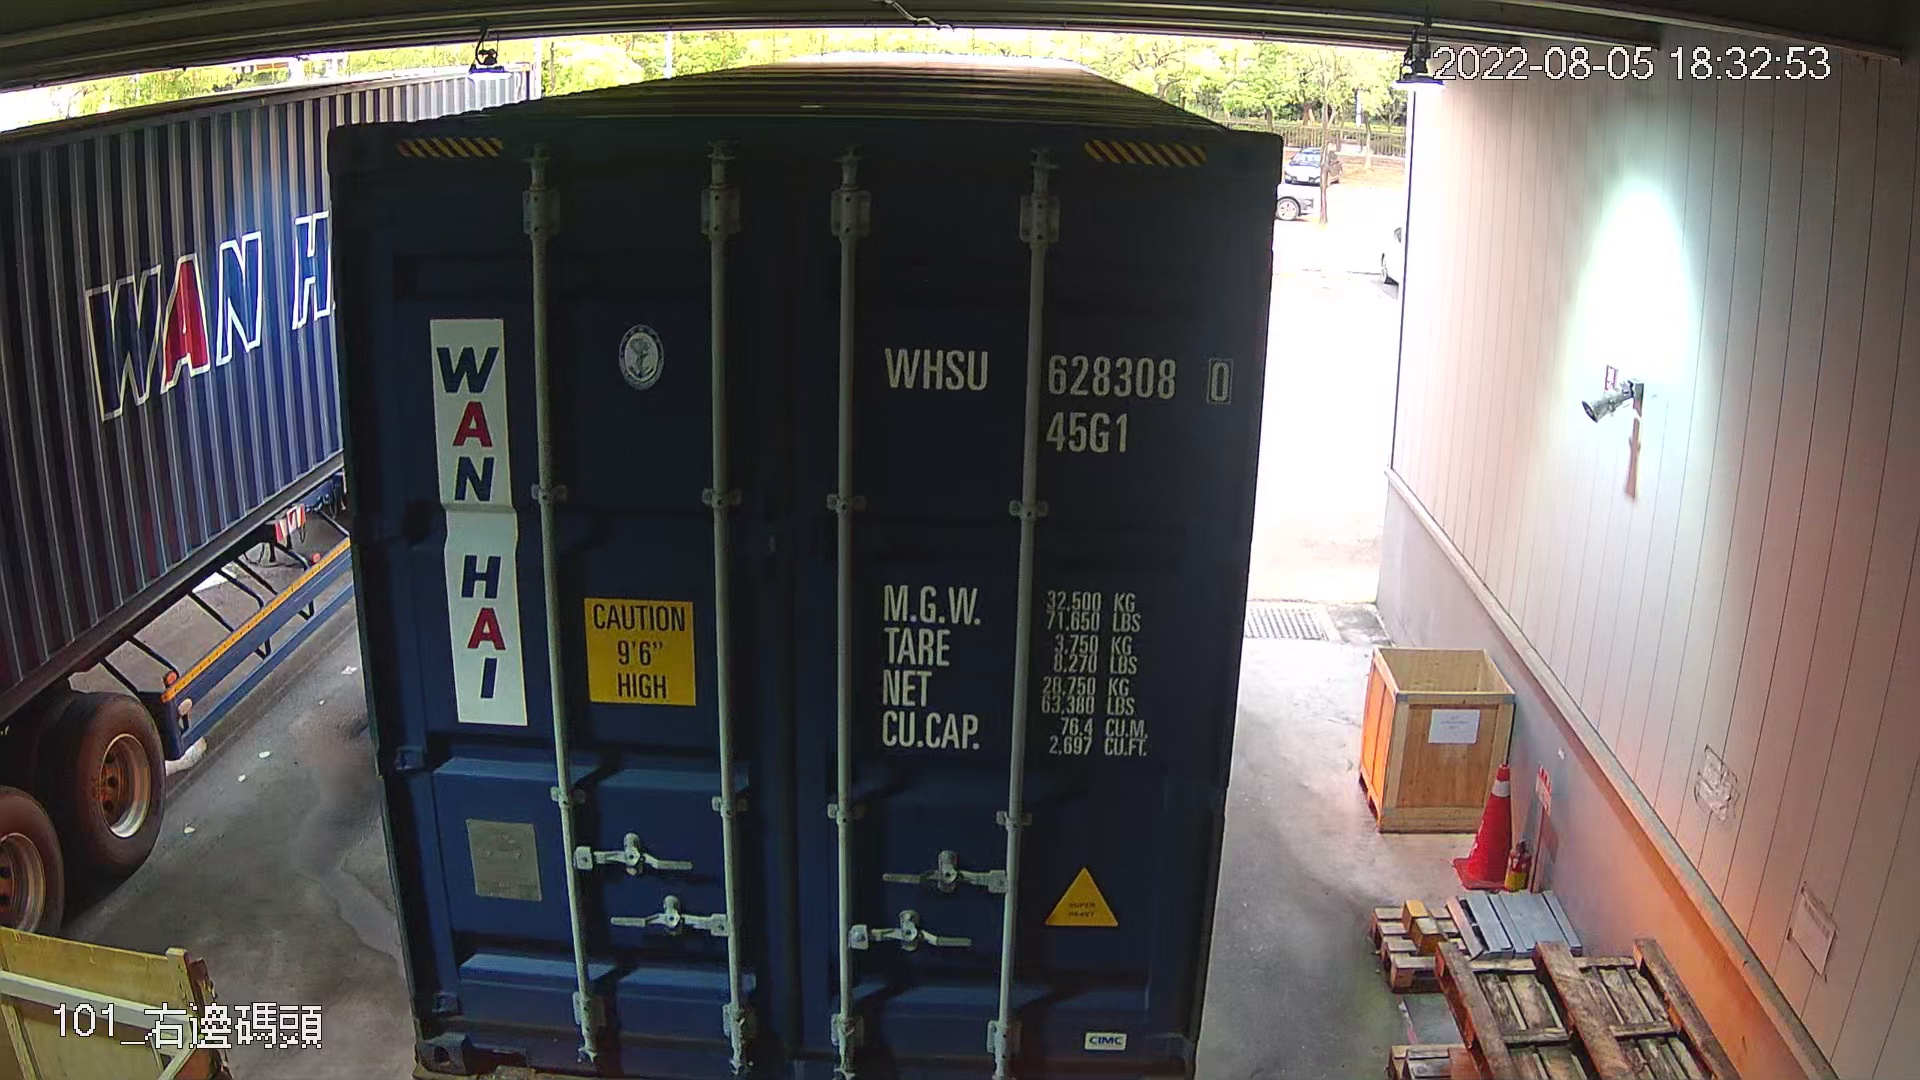container: (866, 316, 1241, 464)
